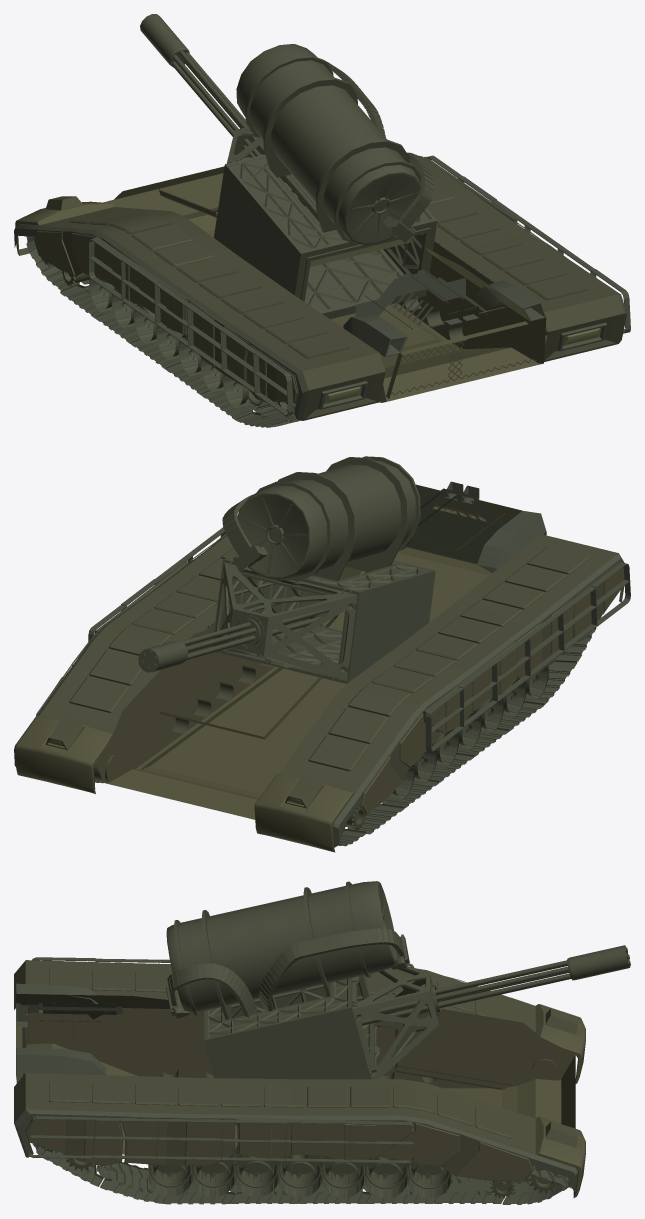
The model's file is anti-aircraft.glb.
3 views of the same model, one above another, from view 1: azimuth 30°, elevation 25°; view 2: azimuth 150°, elevation 25°; view 3: azimuth 270°, elevation 25° (orthographic). The views are drawn at different scales.
Size of the model in its own units: 0.6202 by 0.4448 by 1.
